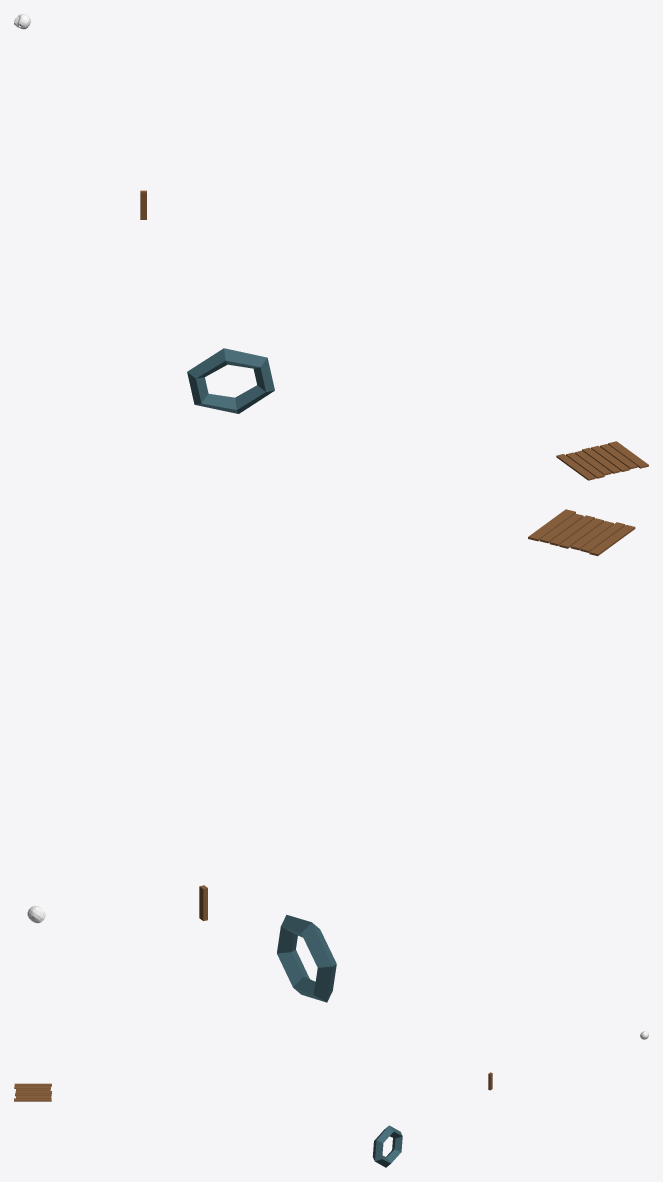
The picture shows the model from 3 angles, top to bottom: view 1: azimuth 30°, elevation 25°; view 2: azimuth 150°, elevation 25°; view 3: azimuth 270°, elevation 25°; orthographic projection. The views are drawn at different scales.
Parts seen in each view (by area): view 1: Torus030_metal_0, Plane363_brown_0; view 2: Torus030_metal_0, Plane363_brown_0; view 3: Torus030_metal_0, Plane363_brown_0.
Part boxes in pixels (<box>): Torus030_metal_0: <box>187,348,274,413</box>; Plane363_brown_0: <box>556,441,648,480</box>; Torus030_metal_0: <box>277,914,336,1002</box>; Plane363_brown_0: <box>528,509,635,556</box>; Torus030_metal_0: <box>372,1125,402,1167</box>; Plane363_brown_0: <box>14,1083,51,1101</box>.
Size of the model in its own units: 644 by 1108 by 4618.
